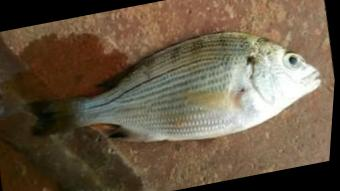fish: (28, 31, 324, 142)
